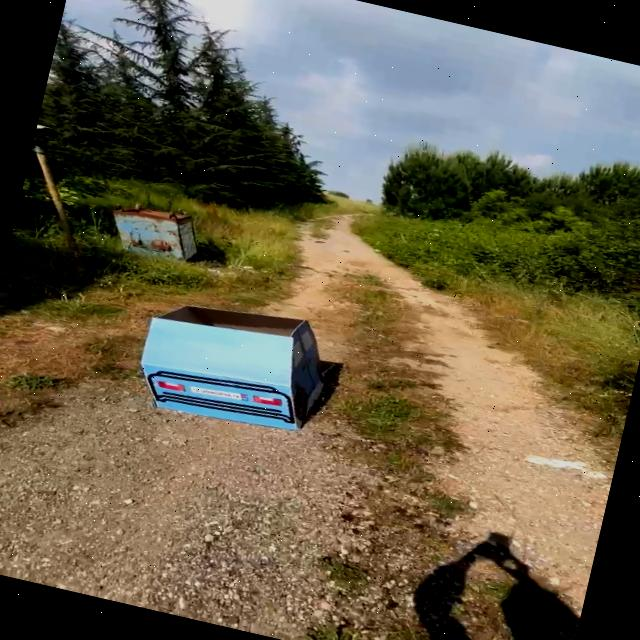blue_car: (106, 271, 353, 468)
